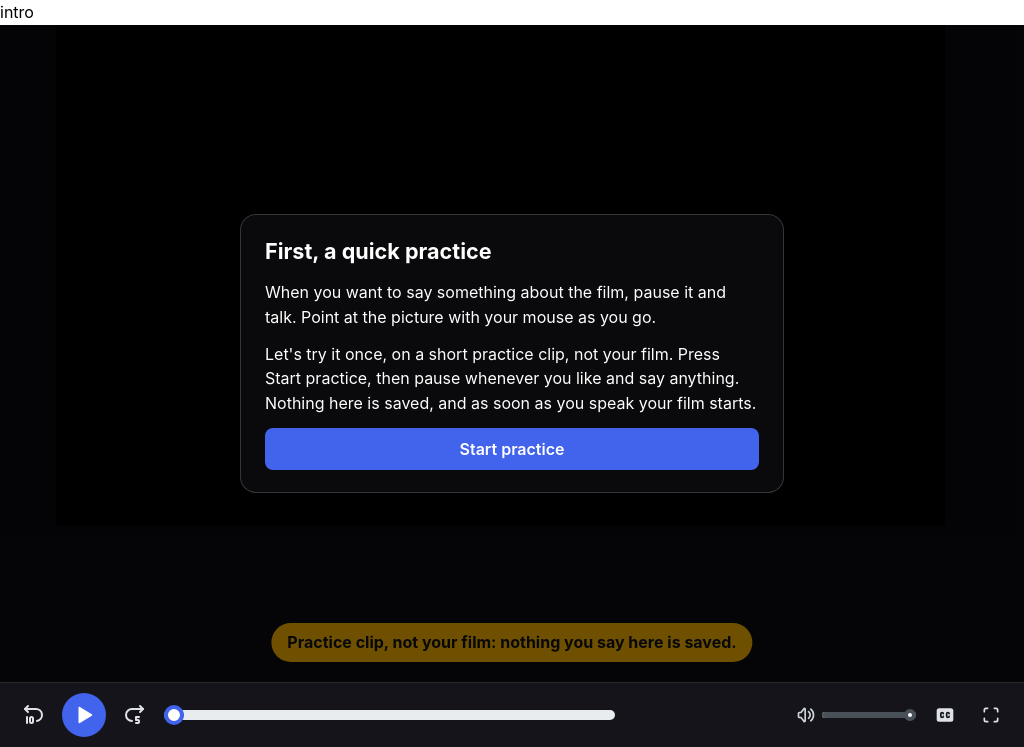
Test: practice run (talkie) › pressing play during the practice pause skips straight on to the real film
Click the button with test id "practice-start" at {"x": 512, "y": 449}, box [265,428,759,470]
Wait 5 ms
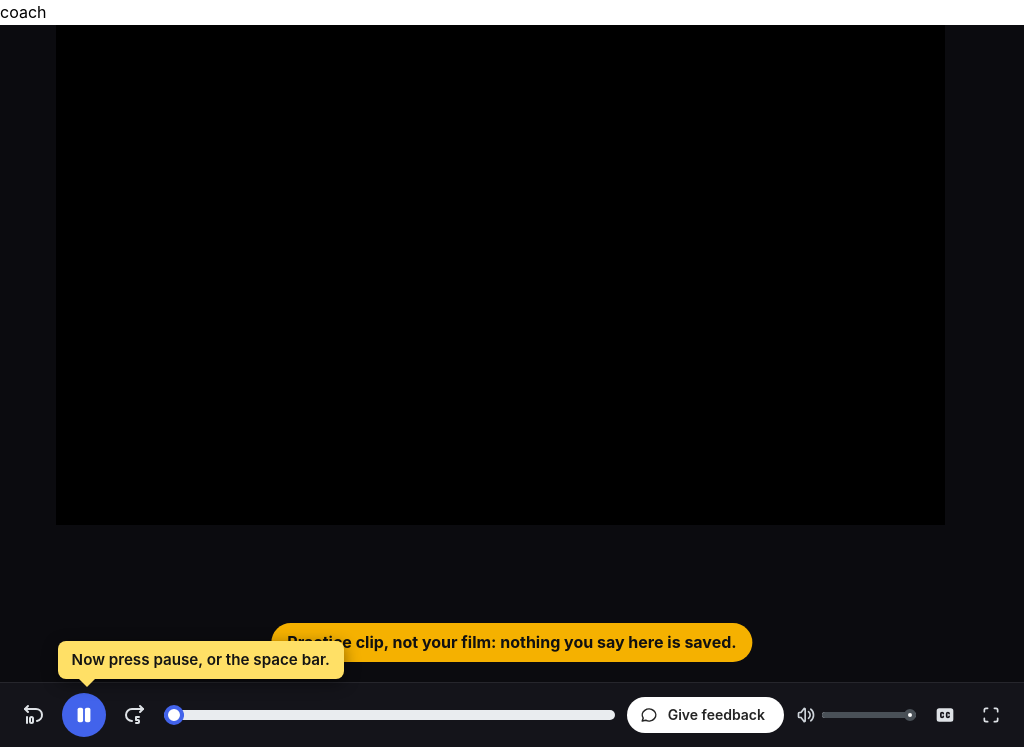
Click the button with test id "play-pause" at {"x": 84, "y": 715}, box [62,693,106,737]
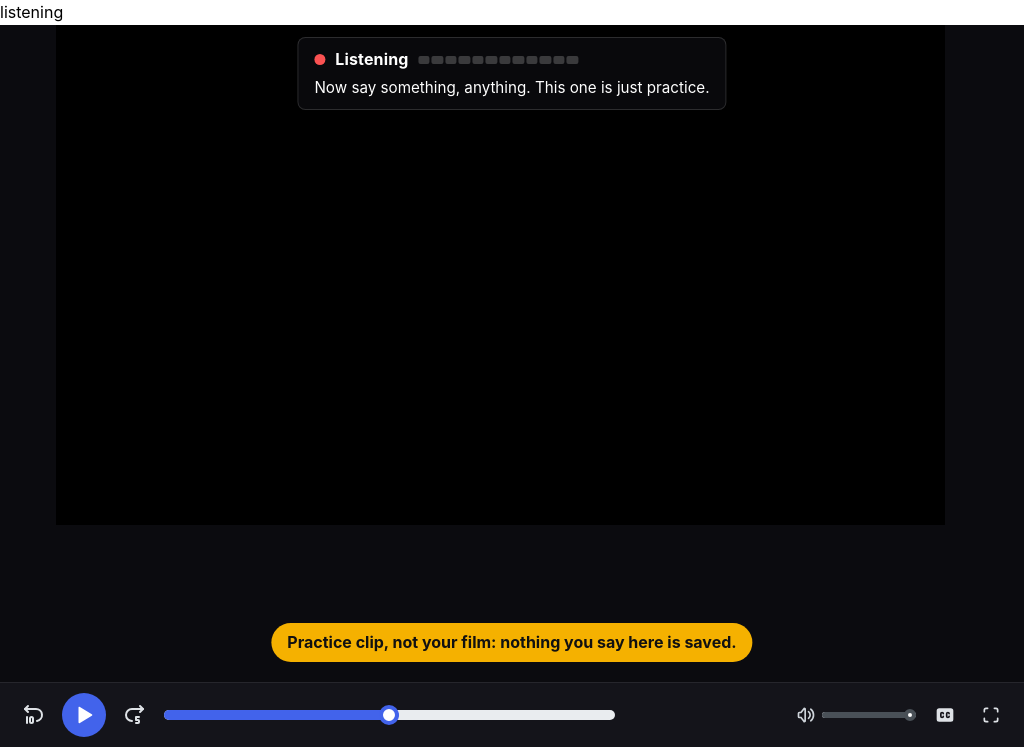
Click the button with test id "play-pause" at {"x": 84, "y": 715}, box [62,693,106,737]
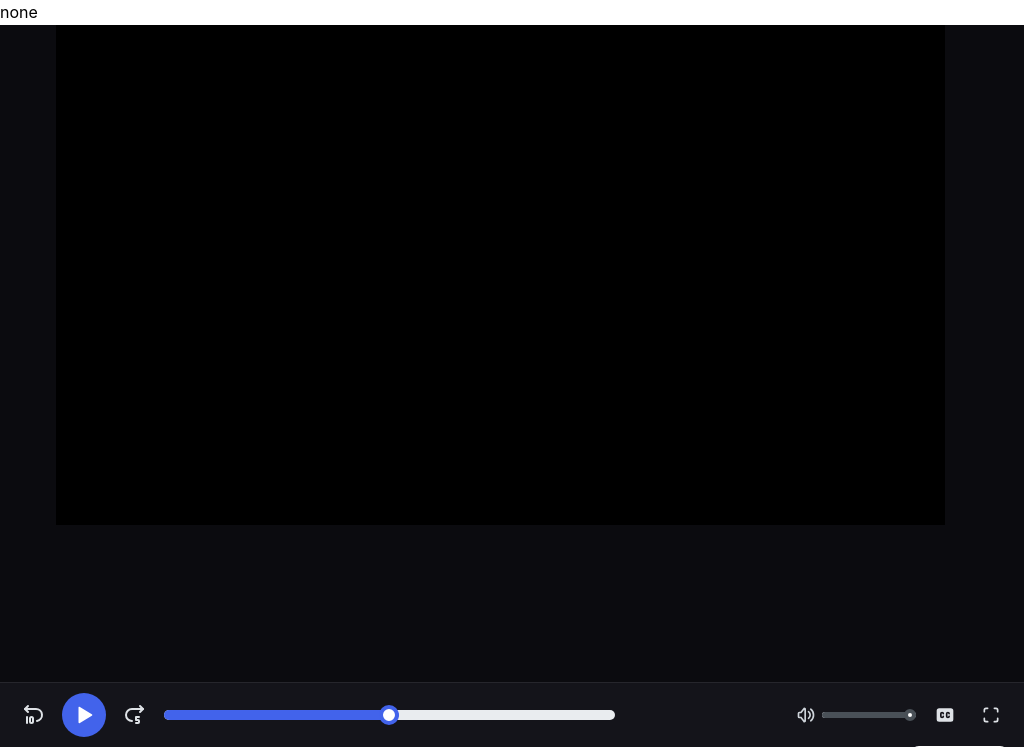
Expected: the text with test id "practice" reads "none", [0,2,38,22]
